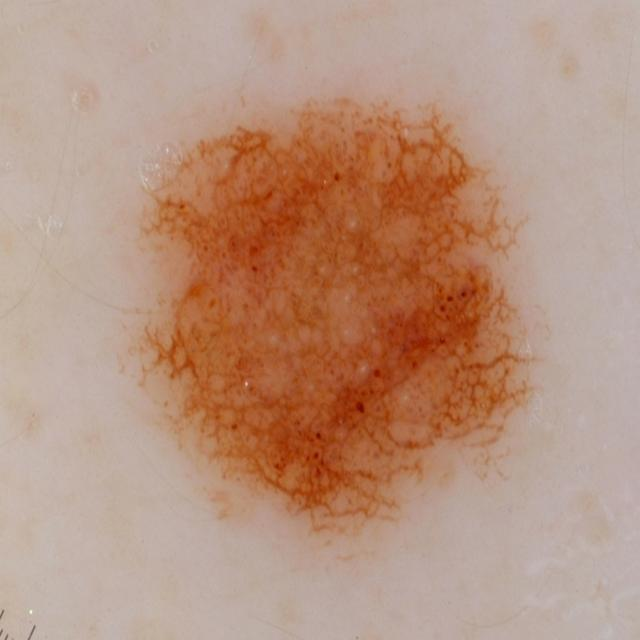Benign: (118, 92, 545, 541)
